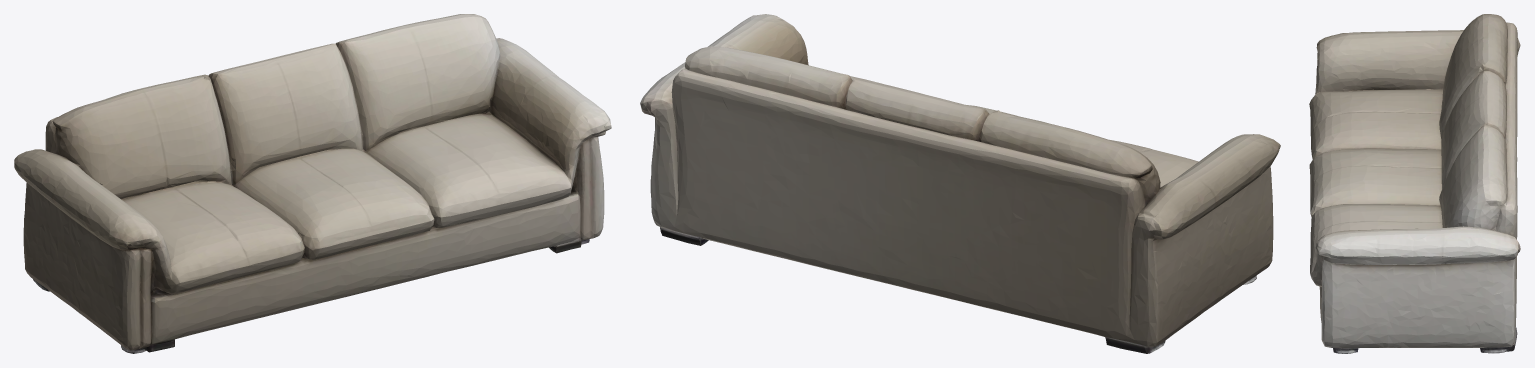
3 renders of one model, left to right at view 1: azimuth 30°, elevation 25°; view 2: azimuth 150°, elevation 25°; view 3: azimuth 270°, elevation 25°, orthographic. The views are drawn at different scales.
Parts seen in each view (by area): view 1: geometry_0; view 2: geometry_0; view 3: geometry_0.
Boxes of the visible parts, left/top/right/bottom form: geometry_0: left=14, top=14, right=611, bottom=353; geometry_0: left=640, top=14, right=1280, bottom=353; geometry_0: left=1309, top=14, right=1520, bottom=353.
Size of the model in its own units: 0.9985 by 0.3394 by 0.4109.
1 material, 1 textured.
